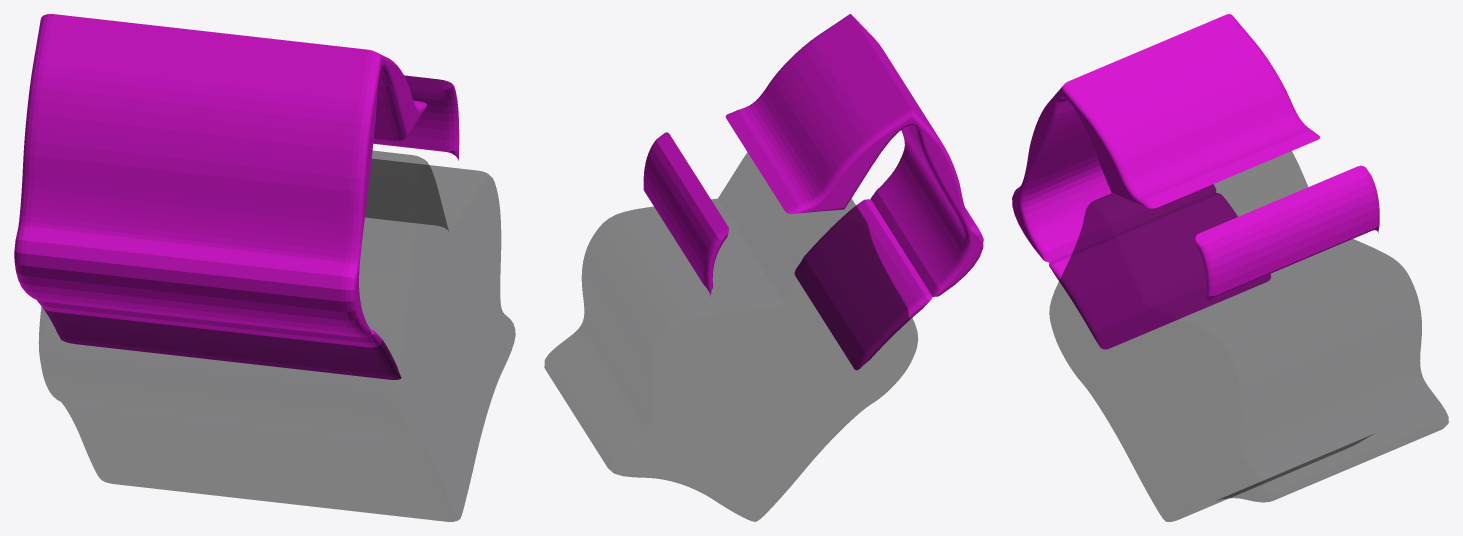
The picture shows the model from 3 angles, left to right: view 1: azimuth 30°, elevation 25°; view 2: azimuth 150°, elevation 25°; view 3: azimuth 270°, elevation 25°; orthographic projection. The views are drawn at different scales.
Size of the model in its own units: 4.08 by 3.92 by 4.
